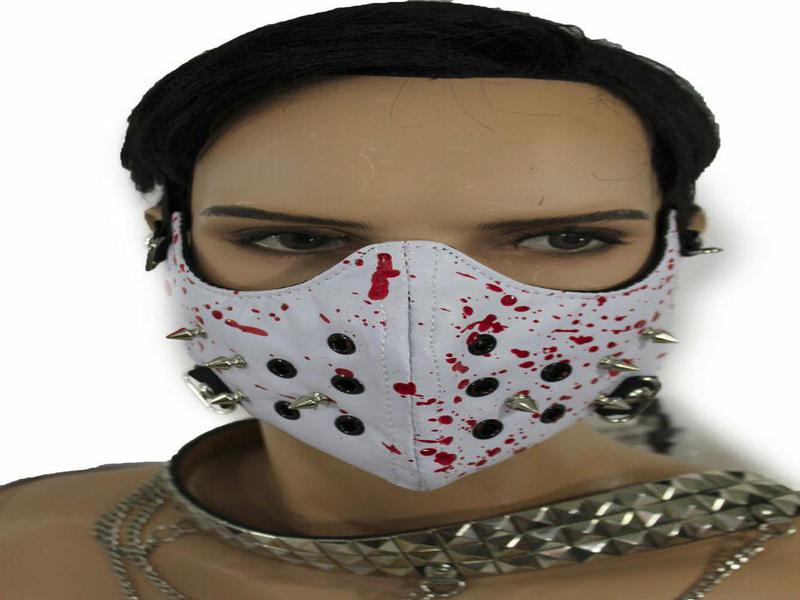with_mask: (148, 76, 675, 500)
